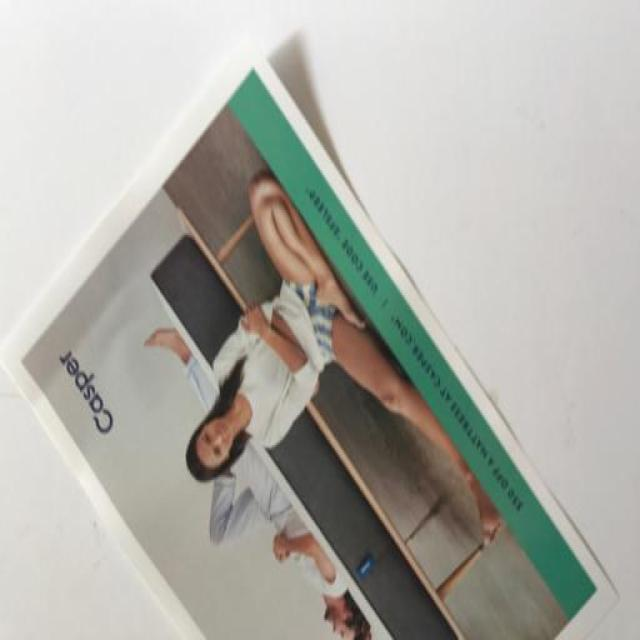paper: (0, 44, 620, 638)
